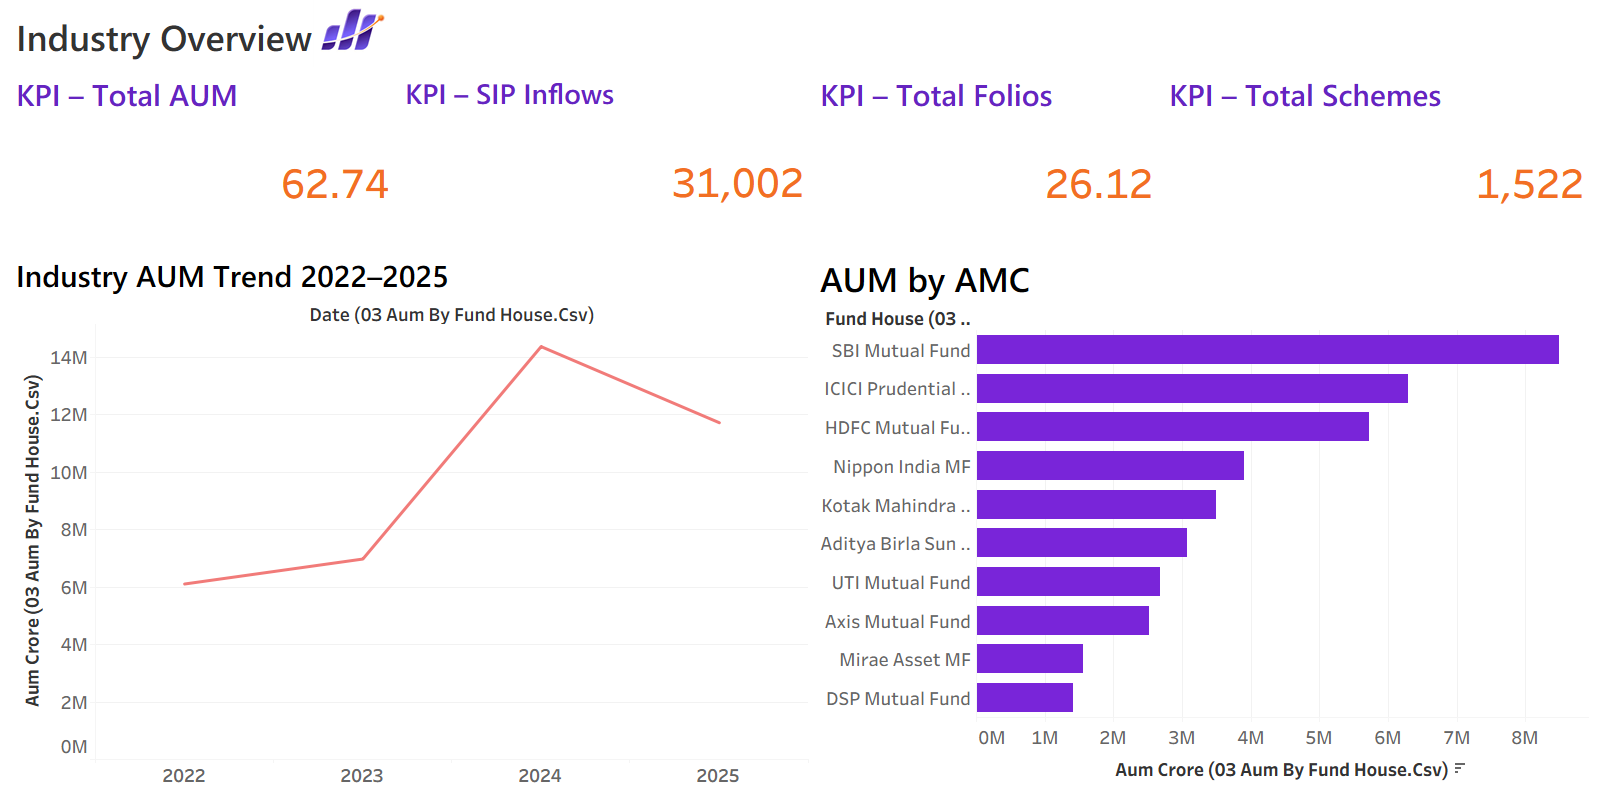

This screenshot's page, from the dashboard's own definition file:
{"tool":"tableau","page":{"name":"Industry Overview","canvas":[1600,800],"ordinal":1},"visuals":[{"type":"title","box":[8,8,1584,56]},{"type":"worksheet","title":"KPI – Total AUM","mark":"Automatic","box":[8,64,389.3,181.5]},{"type":"worksheet","title":"KPI – SIP Inflows","mark":"Automatic","box":[397.3,64,414.9,181.5]},{"type":"worksheet","title":"KPI – Total Folios","mark":"Automatic","box":[812.2,64,349.3,181.5]},{"type":"worksheet","title":"KPI – Total Schemes","mark":"Automatic","box":[1161.4,64,430.6,181.5]},{"type":"worksheet","title":"Industry AUM Trend 2022–2025","mark":"Line","rows":["aum_crore (03_aum_by_fund_house.csv)"],"cols":["date (03_aum_by_fund_house.csv)"],"box":[8,245.5,804,546.5]},{"type":"worksheet","title":"AUM by AMC","mark":"Bar","rows":["fund_house (03_aum_by_fund_house.csv)"],"cols":["aum_crore (03_aum_by_fund_house.csv)"],"box":[812,245.5,780,546.5]}]}

Visuals, with their boxes in screenshot pixels (x1, y1, x2, y2), scaled from the page's 1600x800 canvas onto the 1600x800 screenshot:
title: [8, 8, 1592, 64]
"KPI – Total AUM" worksheet: [8, 64, 397, 246]
"KPI – SIP Inflows" worksheet: [397, 64, 812, 246]
"KPI – Total Folios" worksheet: [812, 64, 1162, 246]
"KPI – Total Schemes" worksheet: [1161, 64, 1592, 246]
"Industry AUM Trend 2022–2025" worksheet (Line marks): [8, 246, 812, 792]
"AUM by AMC" worksheet (Bar marks): [812, 246, 1592, 792]
